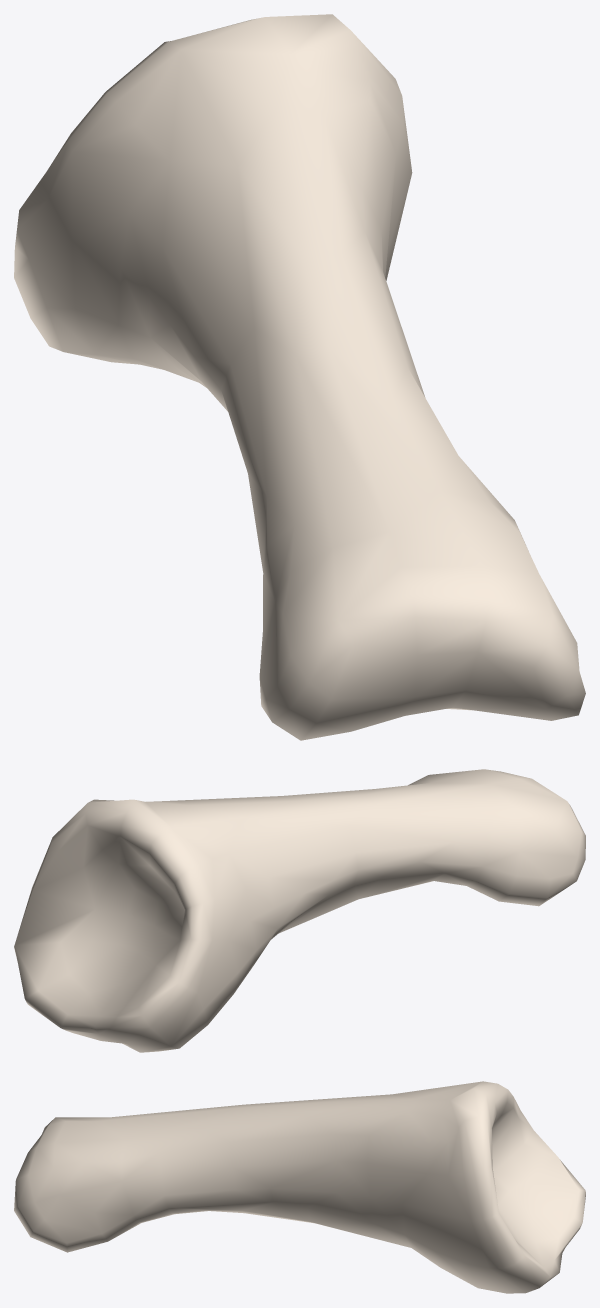
The model's file is right_toe_3_proximal.glb.
3 views of the same model, one above another, from view 1: azimuth 30°, elevation 25°; view 2: azimuth 150°, elevation 25°; view 3: azimuth 270°, elevation 25° (orthographic). The views are drawn at different scales.
Parts seen in each view (by area): view 1: Proximal phalanx of third finger of foot.r; view 2: Proximal phalanx of third finger of foot.r; view 3: Proximal phalanx of third finger of foot.r.
Part boxes in pixels (bbox=[...]): Proximal phalanx of third finger of foot.r: bbox=[14, 14, 585, 740]; Proximal phalanx of third finger of foot.r: bbox=[14, 769, 585, 1052]; Proximal phalanx of third finger of foot.r: bbox=[14, 1081, 585, 1293].
Size of the model in its own units: 0.0129 by 0.0085 by 0.023.
